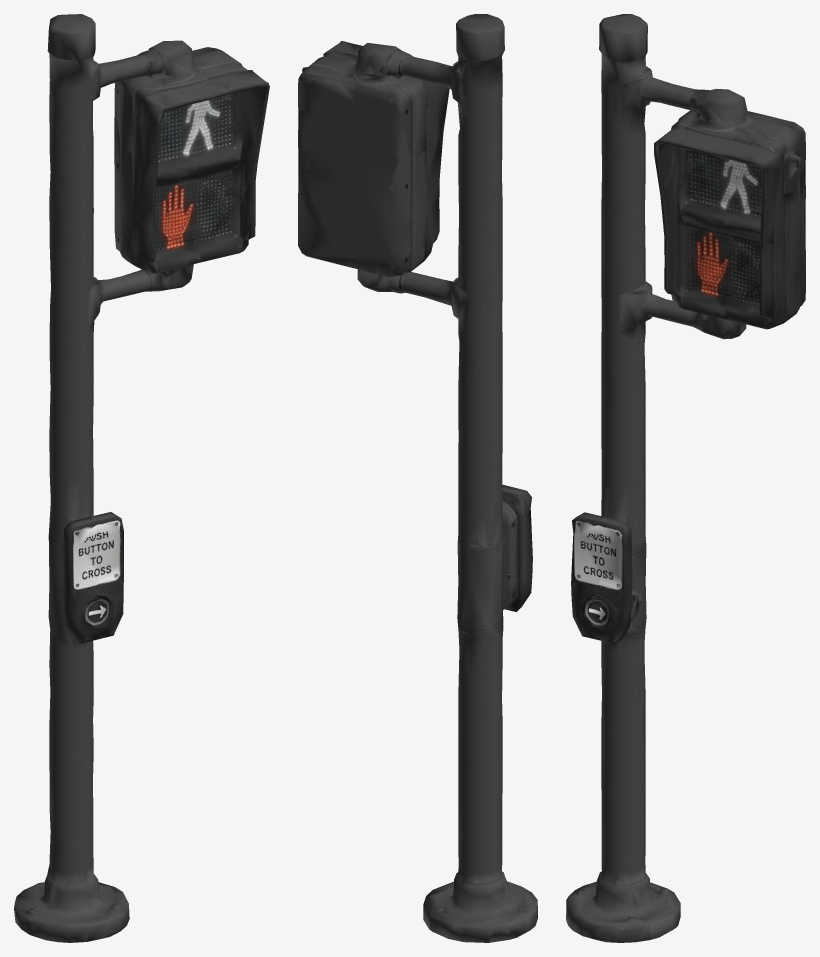
The model's file is psignal_lod1.glb.
3 views of the same model, side by side, from view 1: azimuth 30°, elevation 25°; view 2: azimuth 150°, elevation 25°; view 3: azimuth 330°, elevation 25° (orthographic).
Visible parts, largest first — view 1: mesh_node; view 2: mesh_node; view 3: mesh_node.
Boxes of the visible parts, left/top/right/bottom form: mesh_node: left=14, top=14, right=269, bottom=942; mesh_node: left=298, top=14, right=537, bottom=942; mesh_node: left=566, top=14, right=805, bottom=942.
Bounding box in the file's own units: 0.5106 × 1.9 × 0.2214.
Materials: 1 (1 with a texture image).
